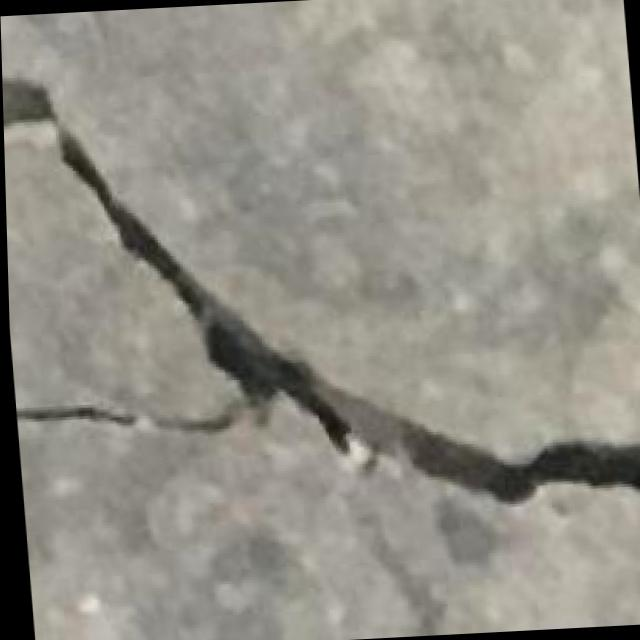Crack: (1, 31, 640, 543)
